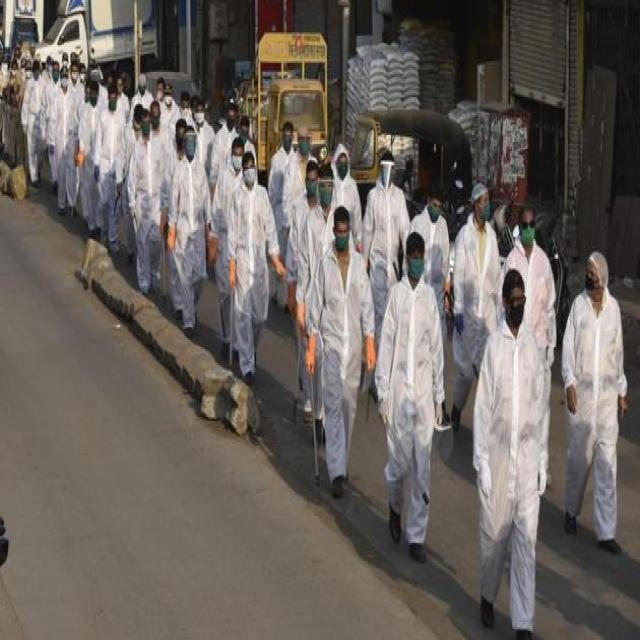Coverall: (360, 198, 451, 582), (554, 180, 629, 563), (482, 255, 553, 640), (211, 131, 292, 374), (300, 191, 362, 468), (153, 137, 215, 338), (73, 83, 129, 237), (115, 130, 161, 288)
Mask: (499, 295, 535, 336), (475, 203, 501, 239), (516, 225, 544, 255), (577, 268, 601, 300), (429, 205, 448, 239), (275, 124, 296, 153), (234, 169, 261, 191), (403, 256, 426, 281), (377, 164, 394, 194), (299, 173, 323, 194), (294, 133, 311, 158), (232, 142, 244, 171), (318, 192, 334, 212), (328, 238, 351, 247)
